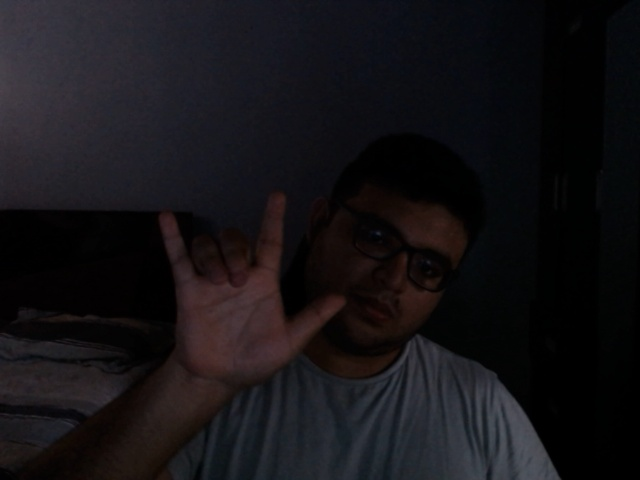I love you: (155, 188, 349, 397)
